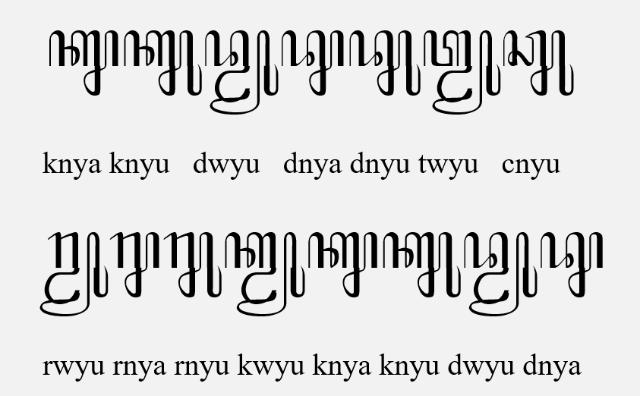cnyu: (504, 29, 574, 96)
dny: (280, 28, 344, 96), (539, 232, 603, 298)
dnyu: (349, 30, 421, 96)
dwyu: (204, 29, 280, 116), (464, 231, 538, 316)
kny: (49, 29, 119, 96), (307, 232, 378, 298)
knyu: (123, 29, 203, 97), (382, 232, 462, 298)
kwyu: (224, 231, 306, 317)
rny: (108, 232, 160, 298)
rnyu: (163, 232, 223, 298)
rwyu: (39, 231, 110, 317)
twyu: (422, 29, 502, 115)
